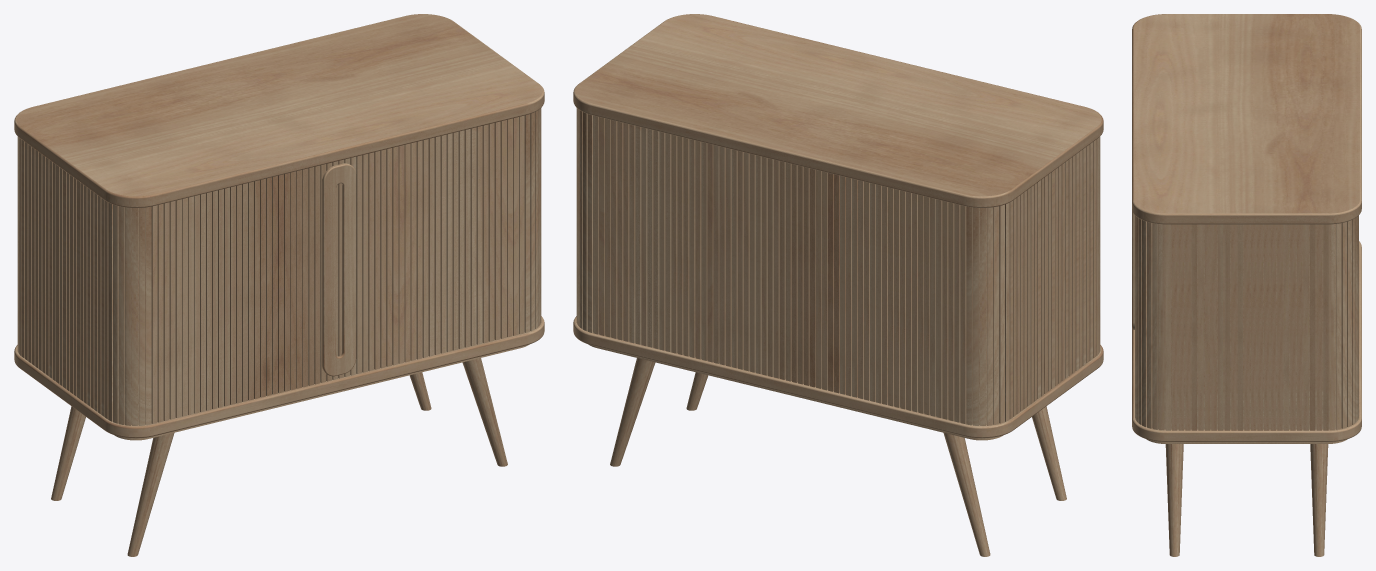
File: SHOE_box.gltf
3 renders of one model, left to right at view 1: azimuth 30°, elevation 25°; view 2: azimuth 150°, elevation 25°; view 3: azimuth 270°, elevation 25°, orthographic. The views are drawn at different scales.
Visible parts, largest first — view 1: SHOE_CABINET; view 2: SHOE_CABINET; view 3: SHOE_CABINET.
Part boxes in pixels (bbox=[...]): SHOE_CABINET: bbox=[14, 14, 544, 556]; SHOE_CABINET: bbox=[573, 14, 1103, 556]; SHOE_CABINET: bbox=[1132, 14, 1361, 556].
Bounding box in the file's own units: 0.7957 × 0.6573 × 0.3847.
1 material, 1 textured.
